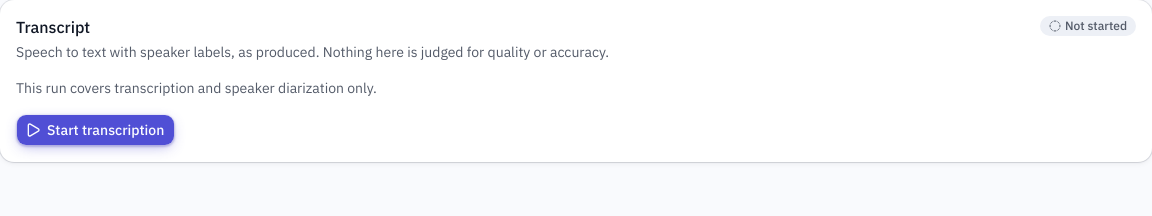
it: actions › explains a 503 on start
Click the button "Start transcription": (96, 130) left=16, top=114, right=175, bottom=146
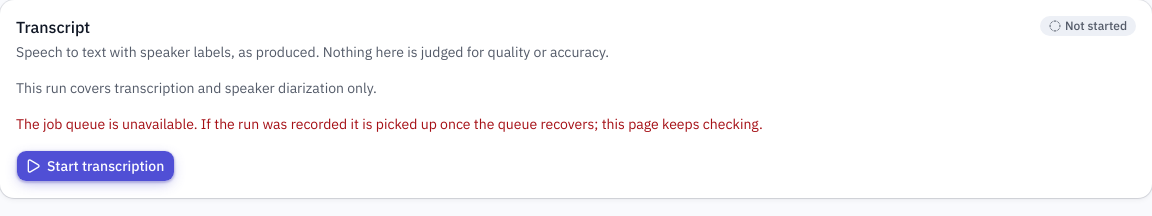
Now the message shows "job queue is unavailable", box left=16, top=115, right=763, bottom=133
